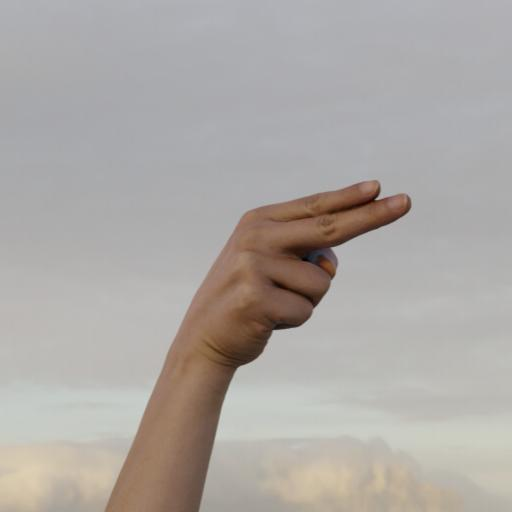H: (146, 164, 452, 422)
